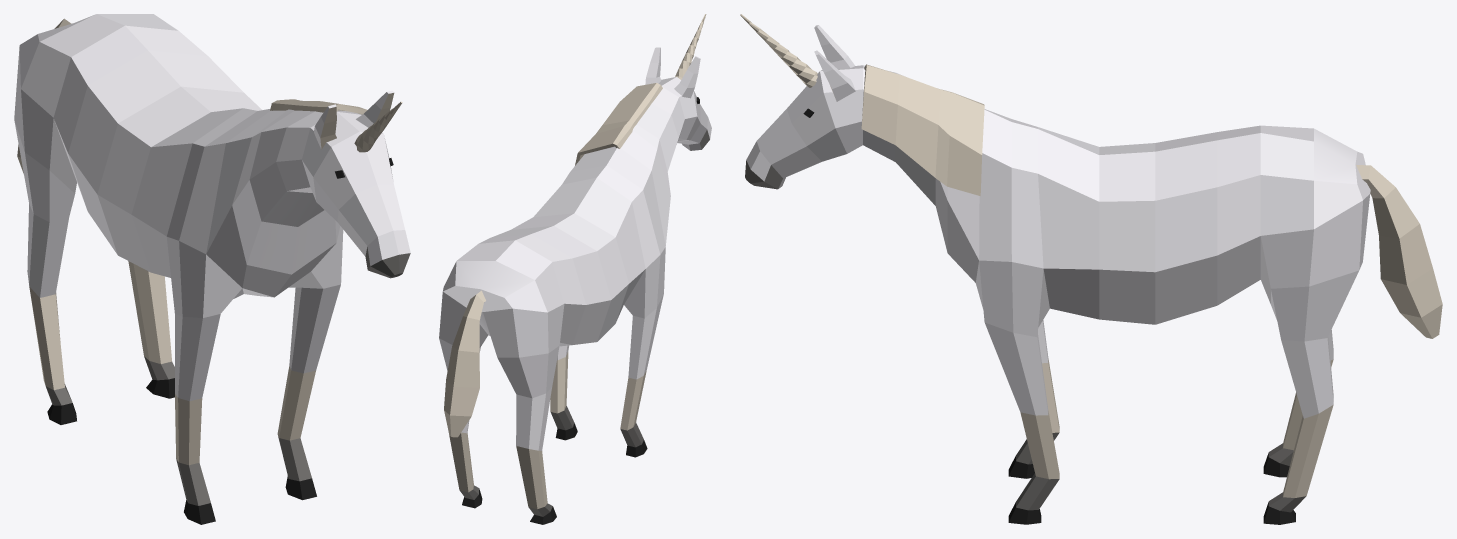
File: Unicorn.glb
The picture shows the model from 3 angles, left to right: view 1: azimuth 30°, elevation 25°; view 2: azimuth 150°, elevation 25°; view 3: azimuth 270°, elevation 25°; orthographic projection. The views are drawn at different scales.
Visible parts, largest first — view 1: Geo_Unicorn; view 2: Geo_Unicorn; view 3: Geo_Unicorn.
Part boxes in pixels (x1,y1,x2,y2): Geo_Unicorn: (14,14,410,524); Geo_Unicorn: (439,14,711,524); Geo_Unicorn: (740,14,1442,524).
Bounding box in the file's own units: 73.07 × 214 × 283.
Materials: 1 (1 with a texture image).
